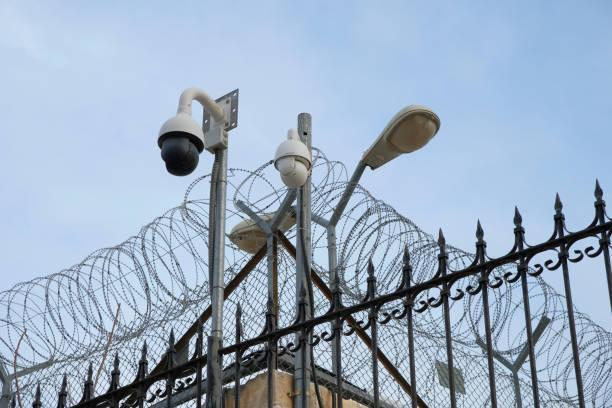camera: (150, 81, 240, 185), (263, 120, 320, 206)
